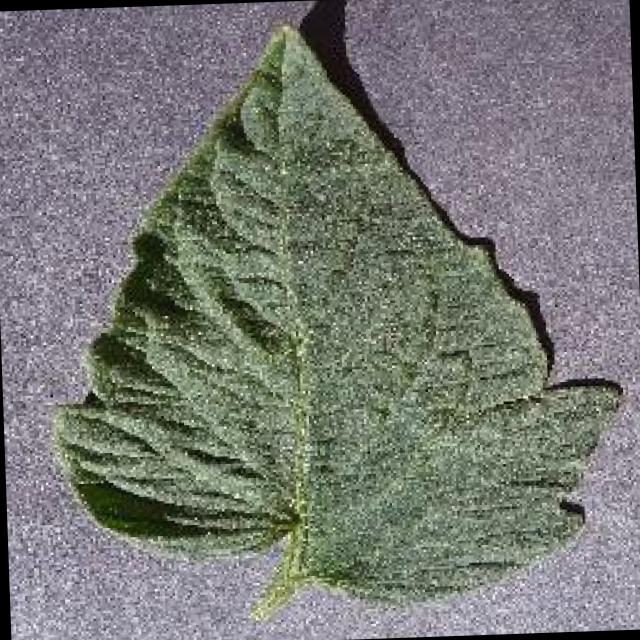Tomato_Healthy: (32, 14, 632, 624)
